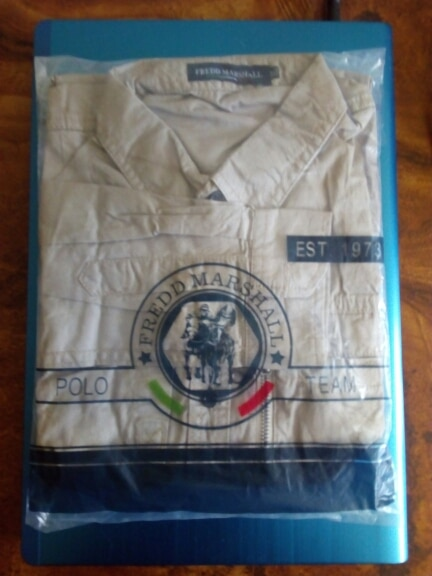shirts: (44, 55, 386, 515)
